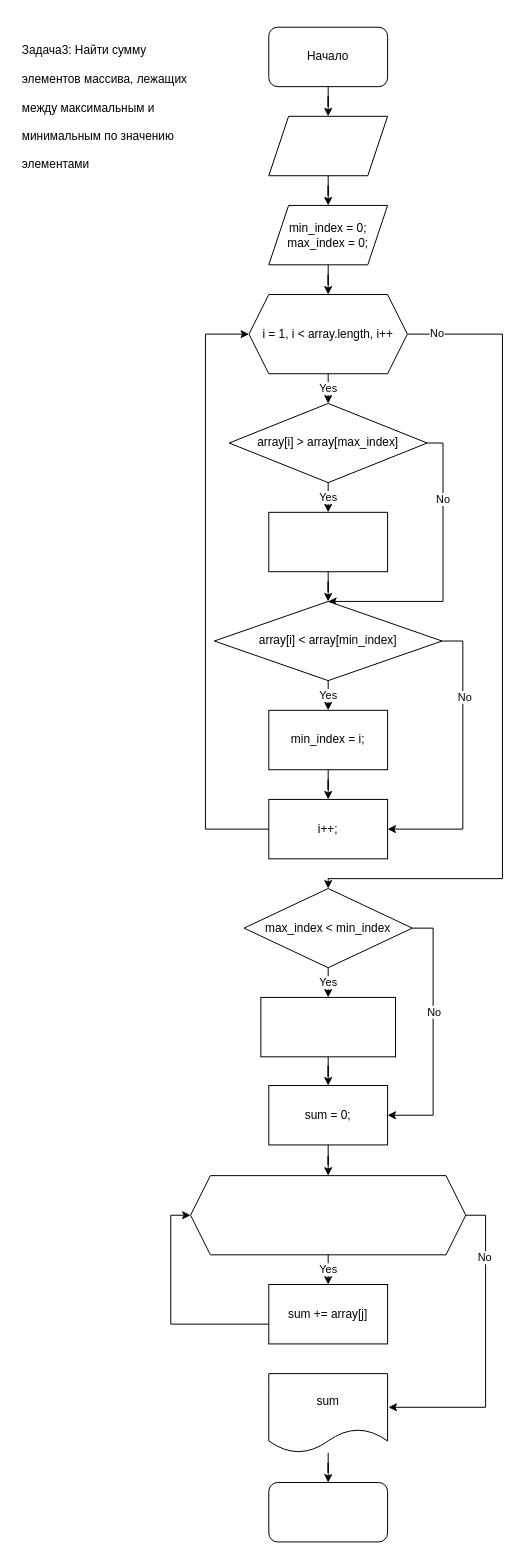
Image size: 528x1559. Some labels were removed from this diagram. The shapes that lost their labels are listed below. From the top down, each one's centre as x and y in pixels, then its label:
pixel 328 145: array[]
pixel 328 541: max_index = i;
pixel 328 1026: temp = min_index; min_index = max_index; max_index = temp;
pixel 328 1215: j = min_index + 1, j < max_index; i++
pixel 328 1512: Конец
